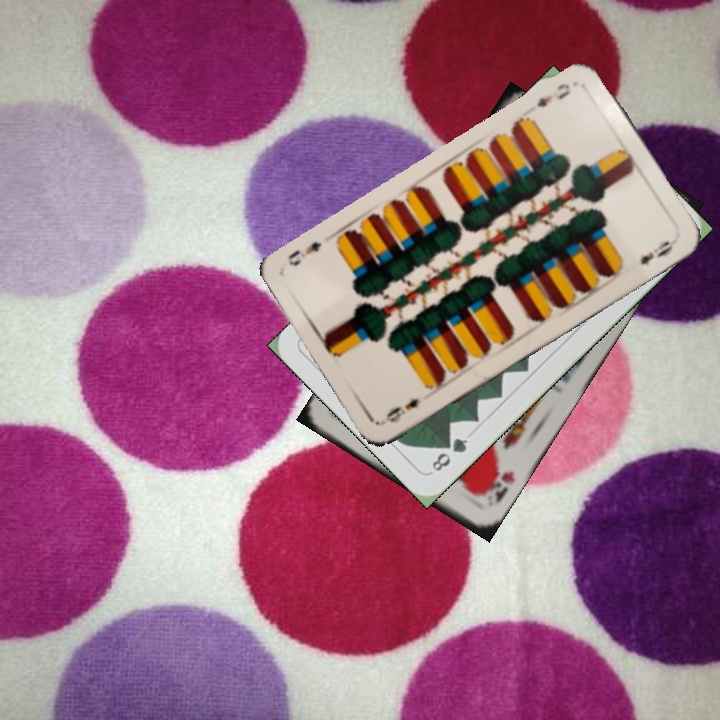E9: (379, 394, 421, 426), (532, 79, 574, 111)
G8: (425, 433, 471, 476)
HK: (477, 460, 518, 506)
